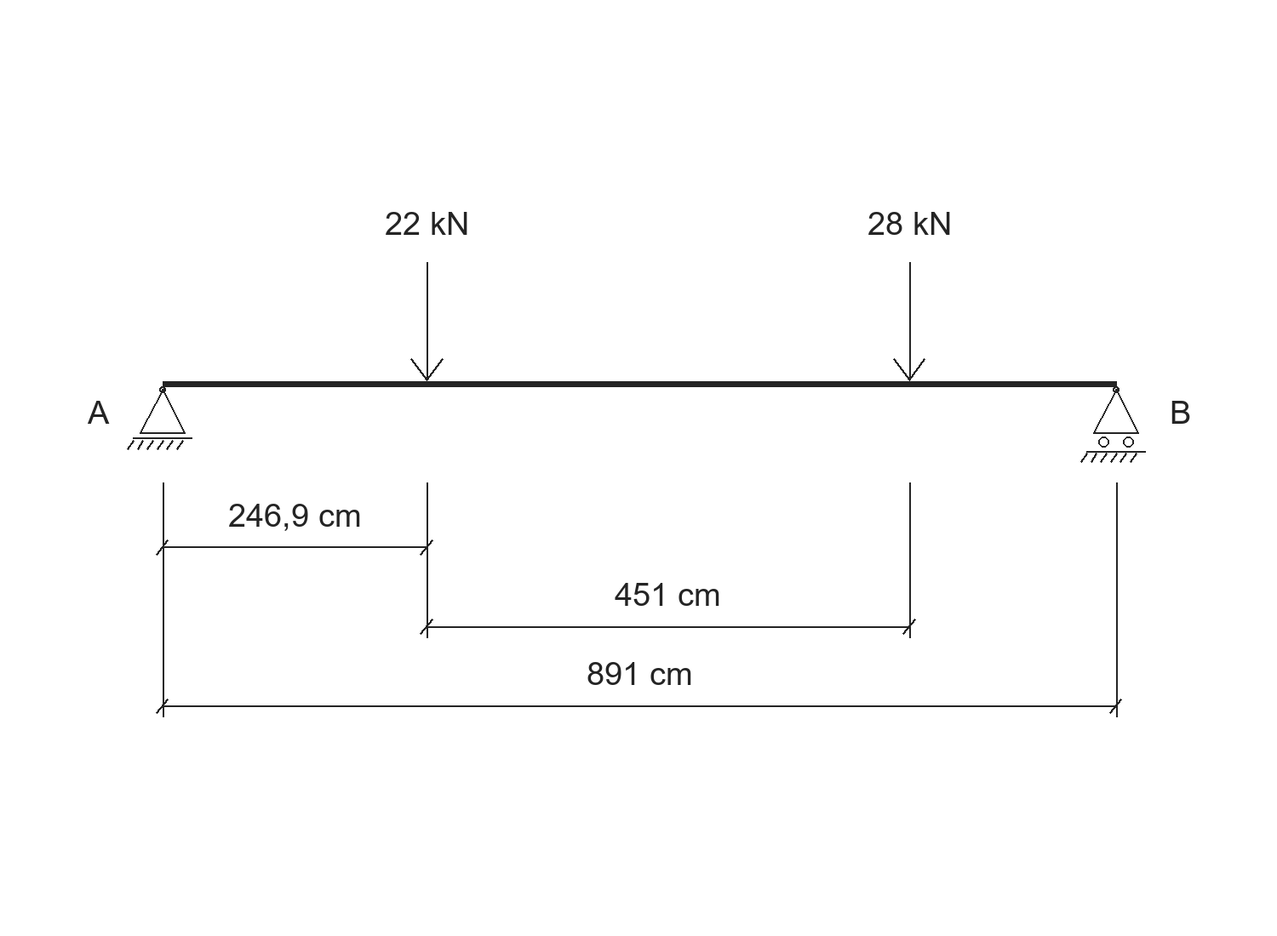pin_support: (127, 386, 192, 450)
point_load: (410, 262, 444, 381), (893, 262, 925, 381)
roller_support: (1080, 386, 1146, 463)
